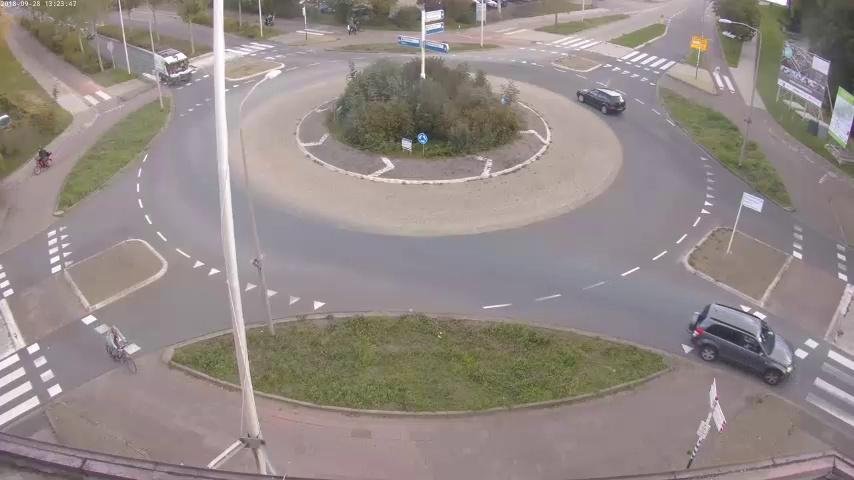bicycle: (94, 322, 144, 388), (32, 144, 54, 176)
car: (684, 299, 802, 388), (583, 87, 624, 117)
van: (149, 48, 191, 81)
